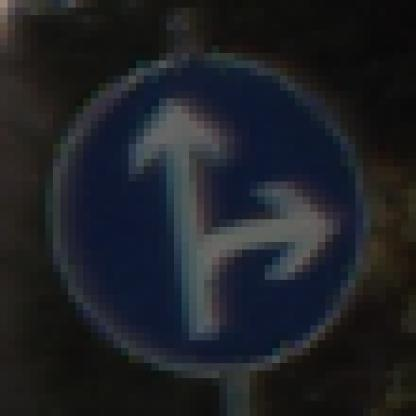Straight or Right: (39, 47, 379, 380)
